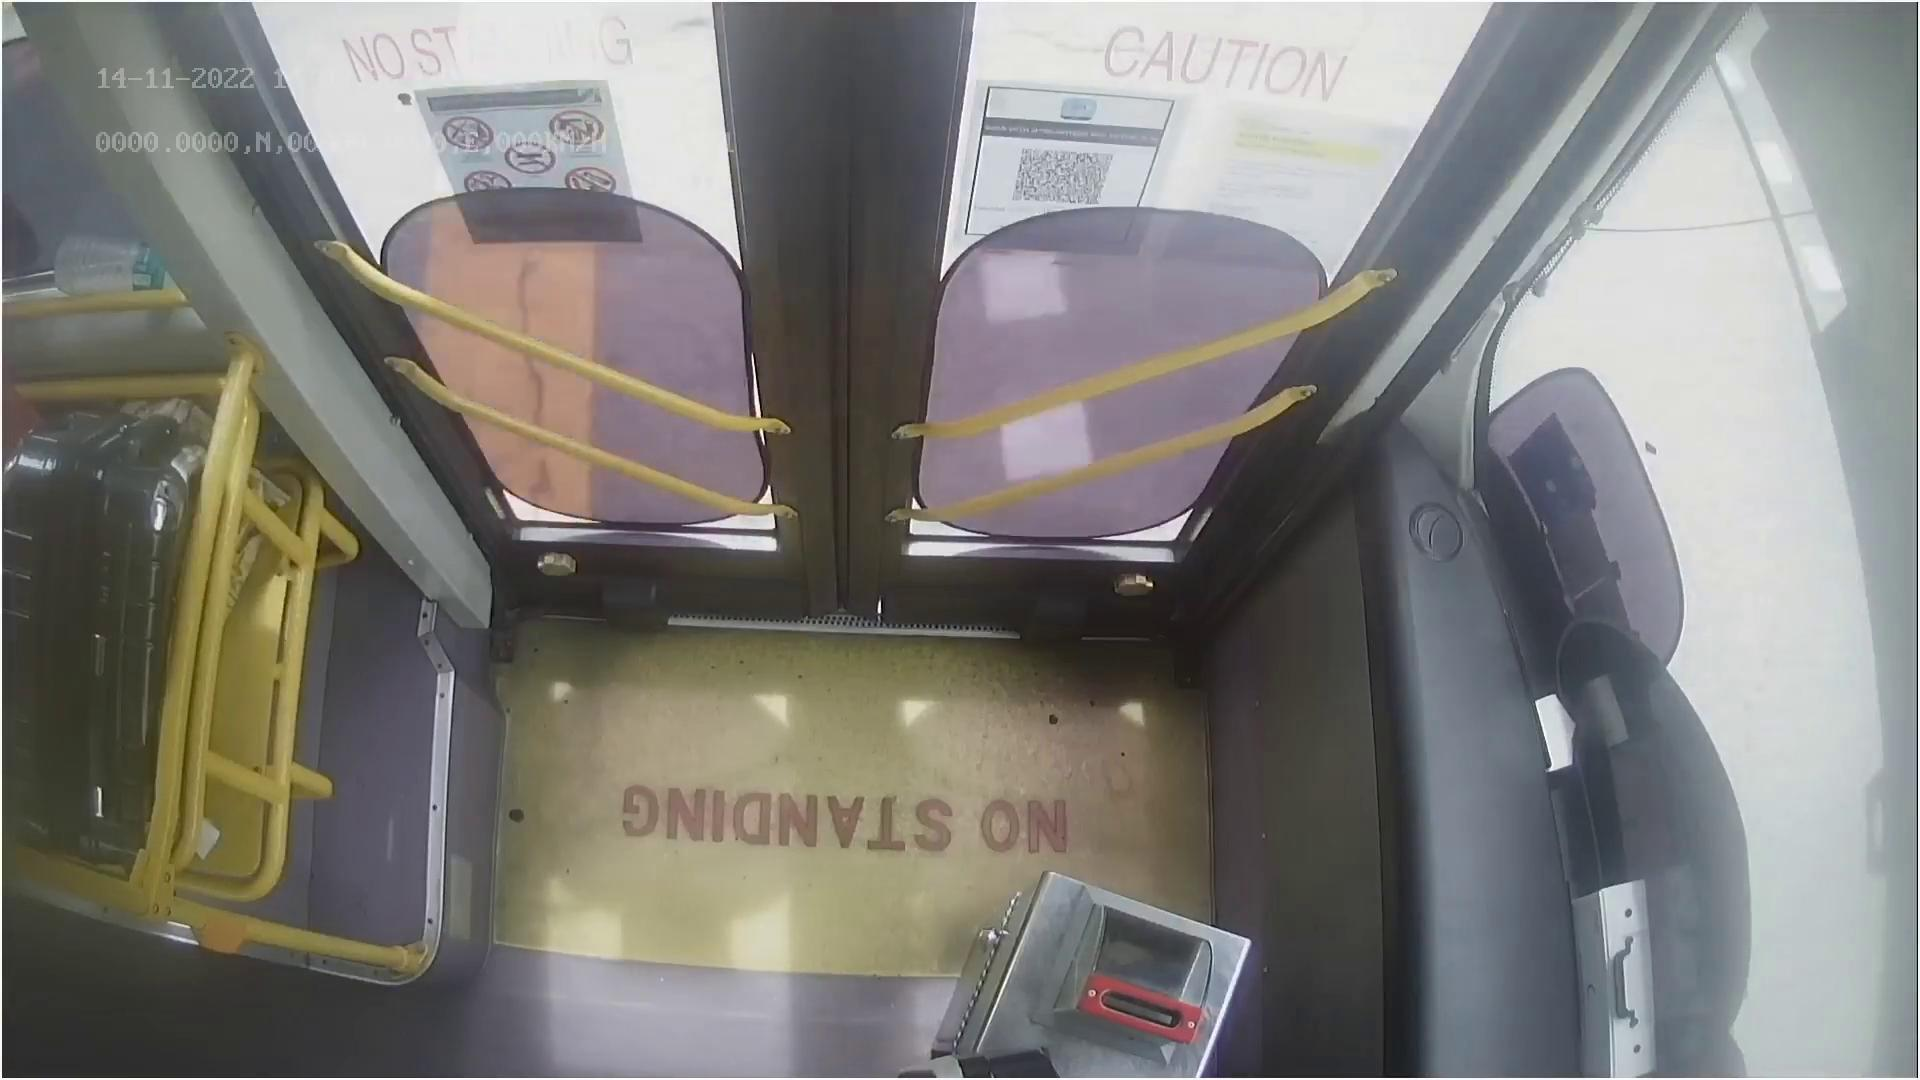close: (282, 0, 1439, 166)
